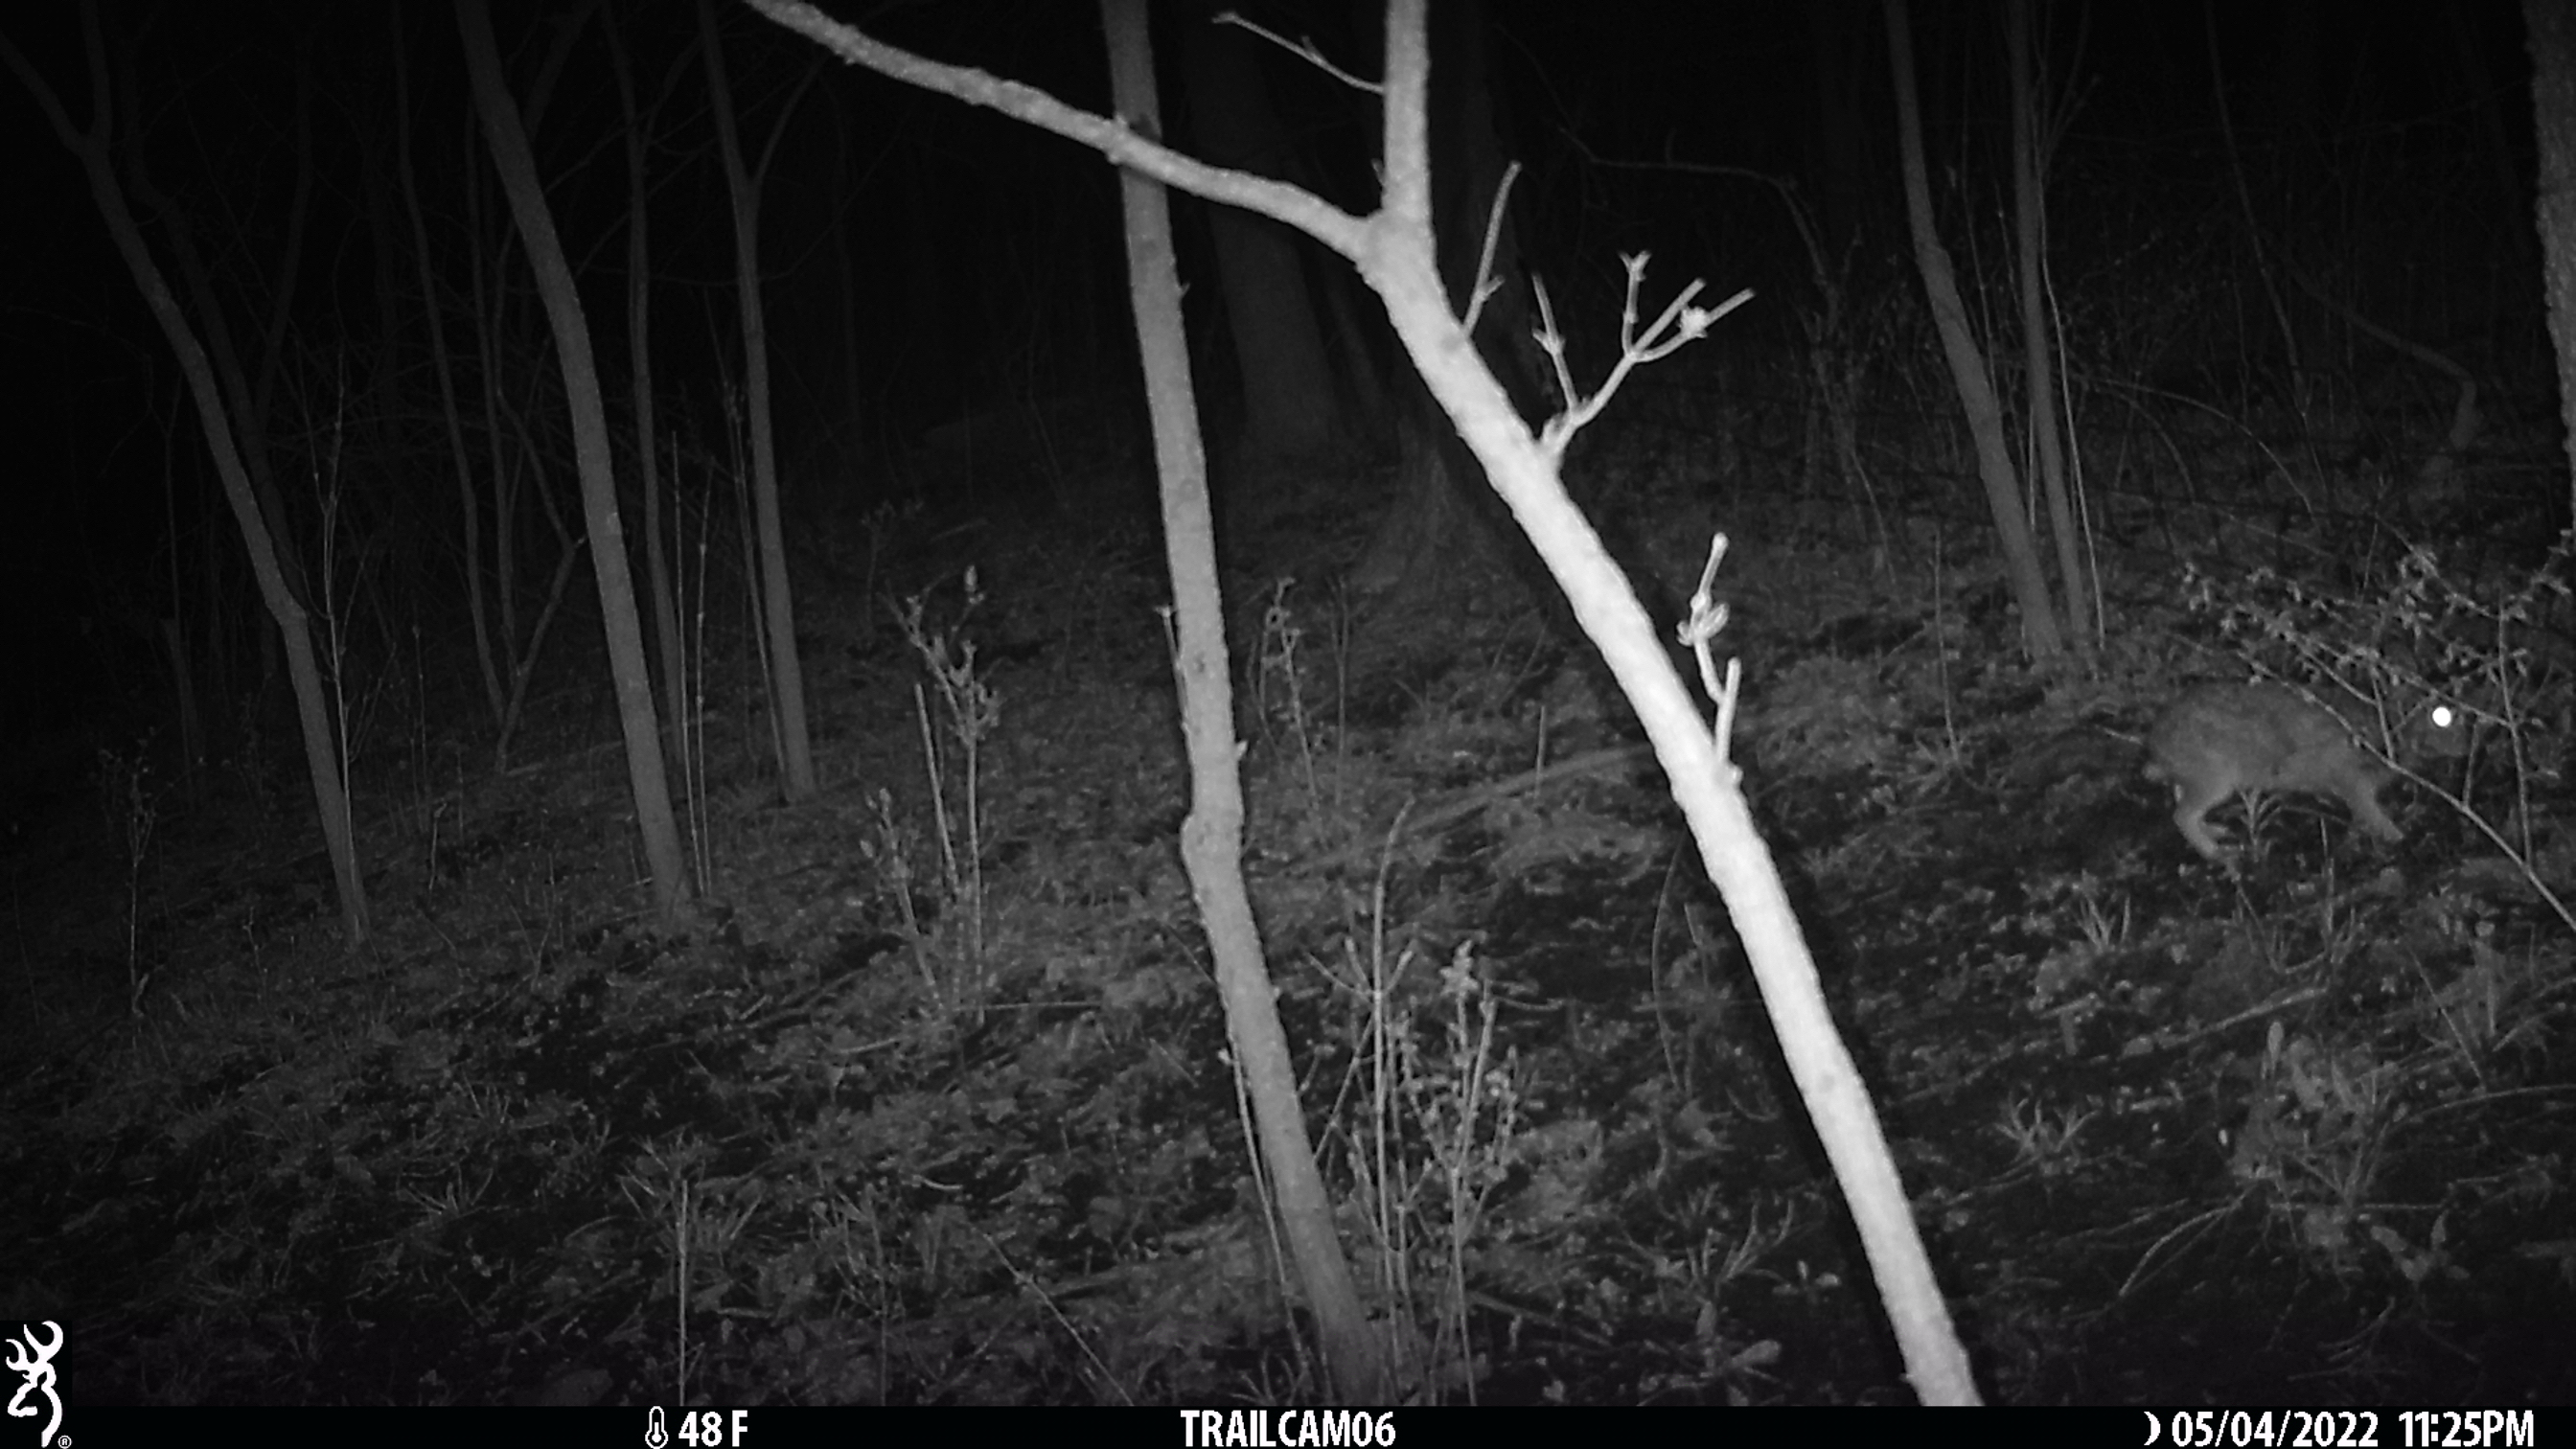Rabbit: (2144, 637, 2484, 855)
